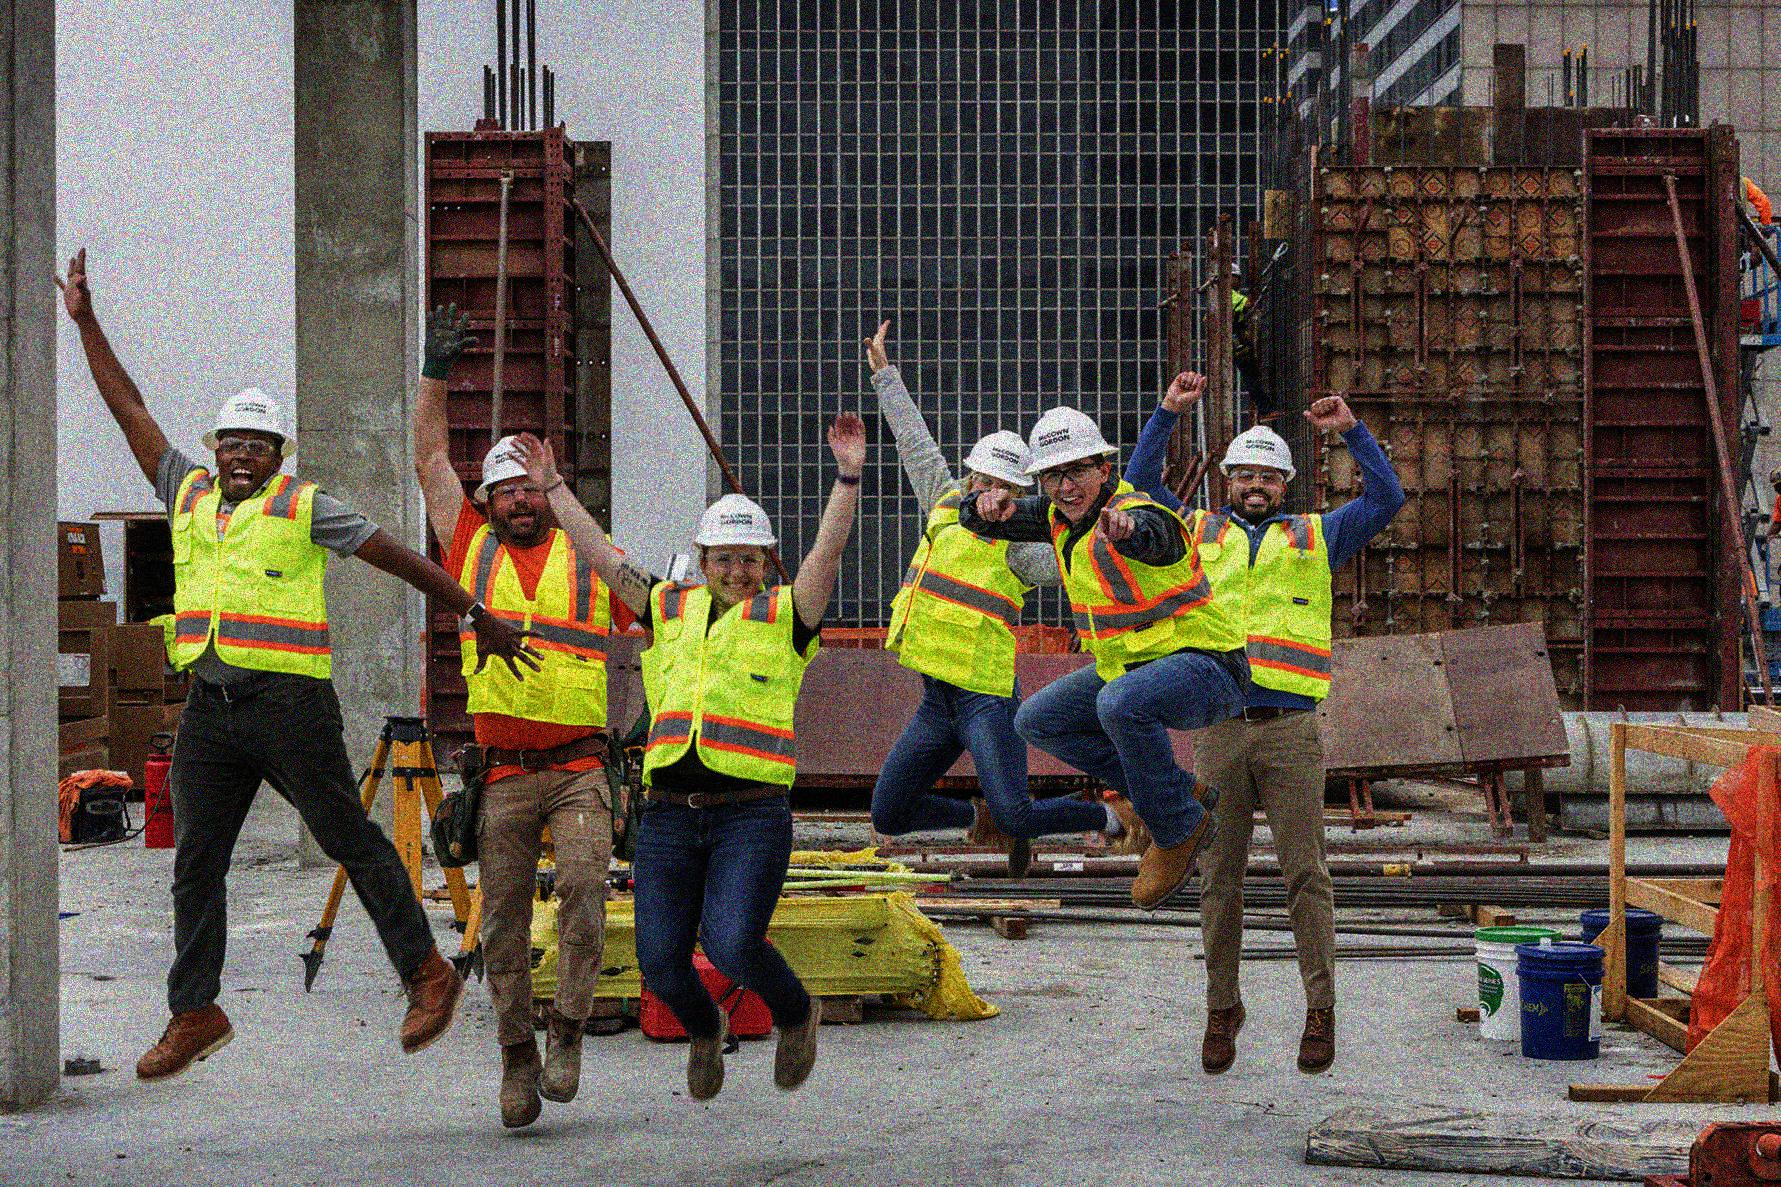helmet: (199, 386, 299, 503), (1025, 403, 1115, 515), (697, 491, 781, 600), (475, 429, 554, 543), (1216, 424, 1296, 519), (957, 427, 1038, 503)
